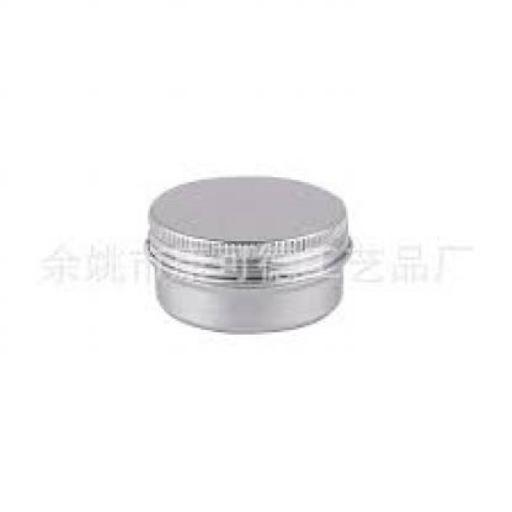metal: (144, 177, 352, 330)
